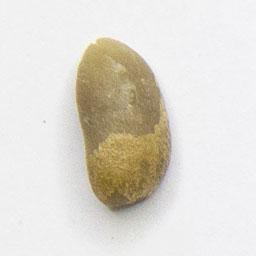longberry: (70, 32, 176, 213)
